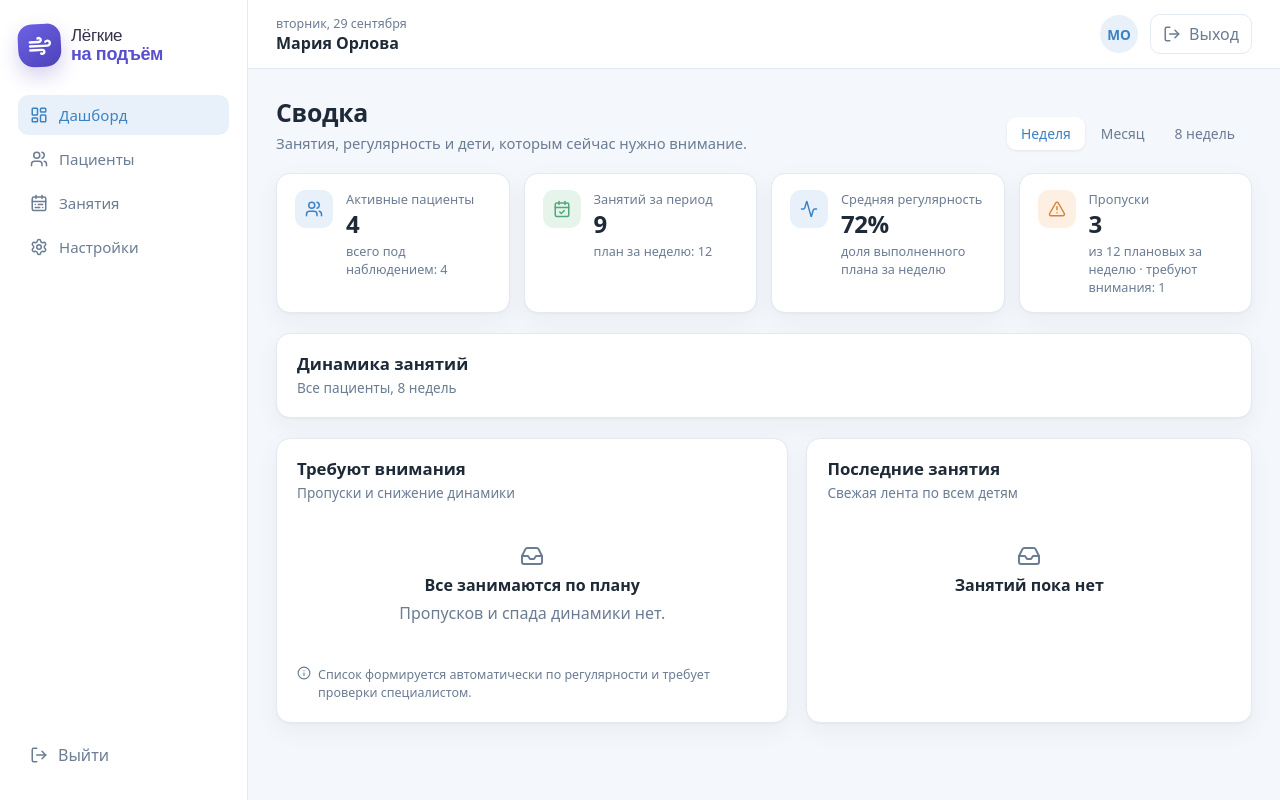
Scenario: Навигация по разделам кабинета › переход Дашборд → Пациенты → Занятия → Настройки грузит нужные данные
Check: the heading "Сводка" is shown, box [276,95,368,129]
Click the link "Пациенты": [82, 159] box [30,149,134,169]
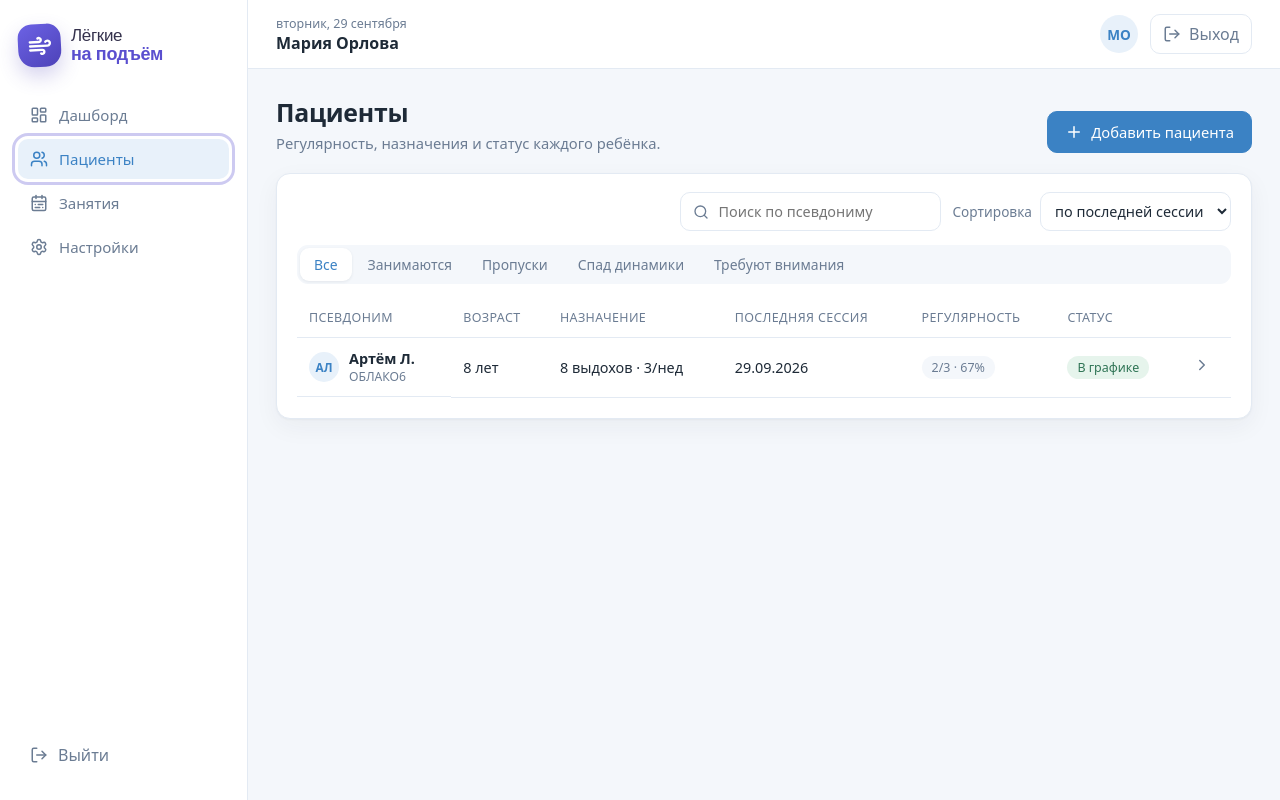
Check: the heading "Пациенты" is shown, box [276,95,408,129]
Click the link "Занятия": [75, 203] box [30,193,120,213]
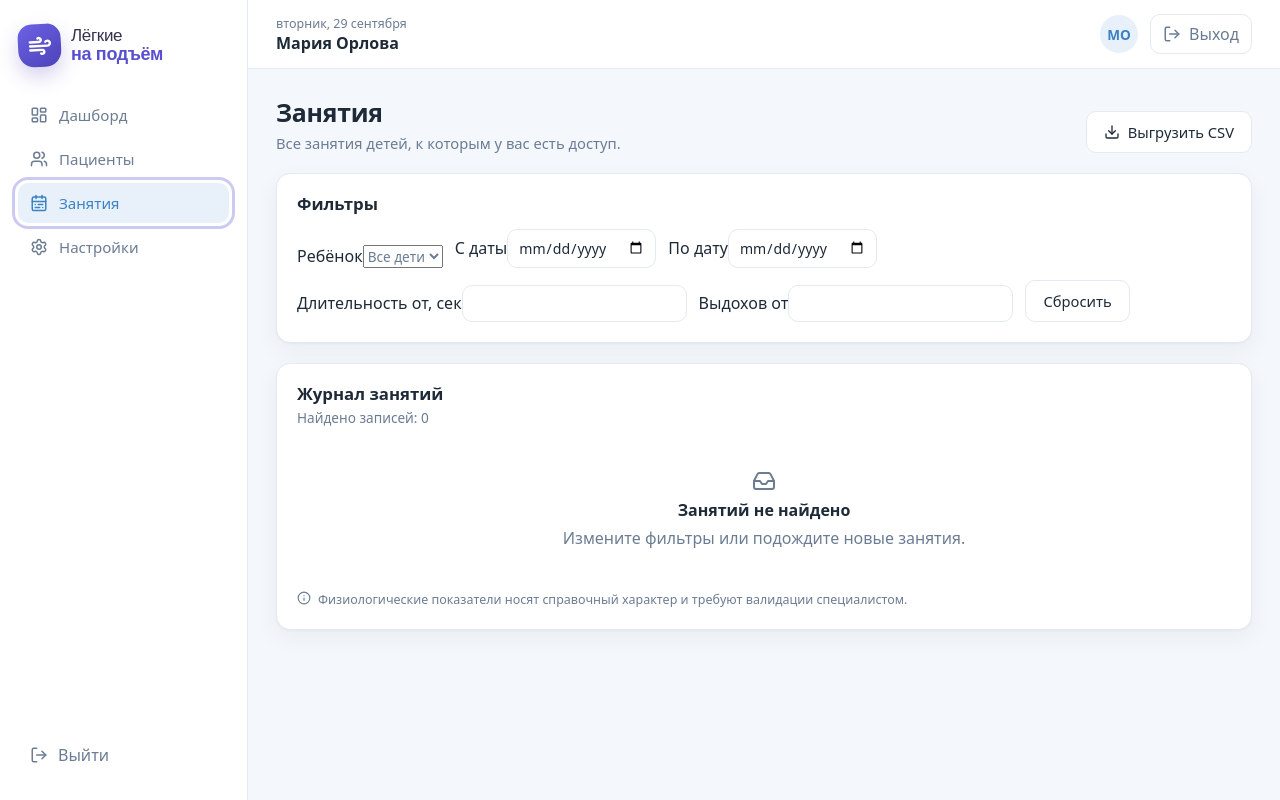
Check: the heading "Занятия" is shown, box [276,95,383,129]
Click the link "Настройки": [84, 247] box [30,237,139,257]
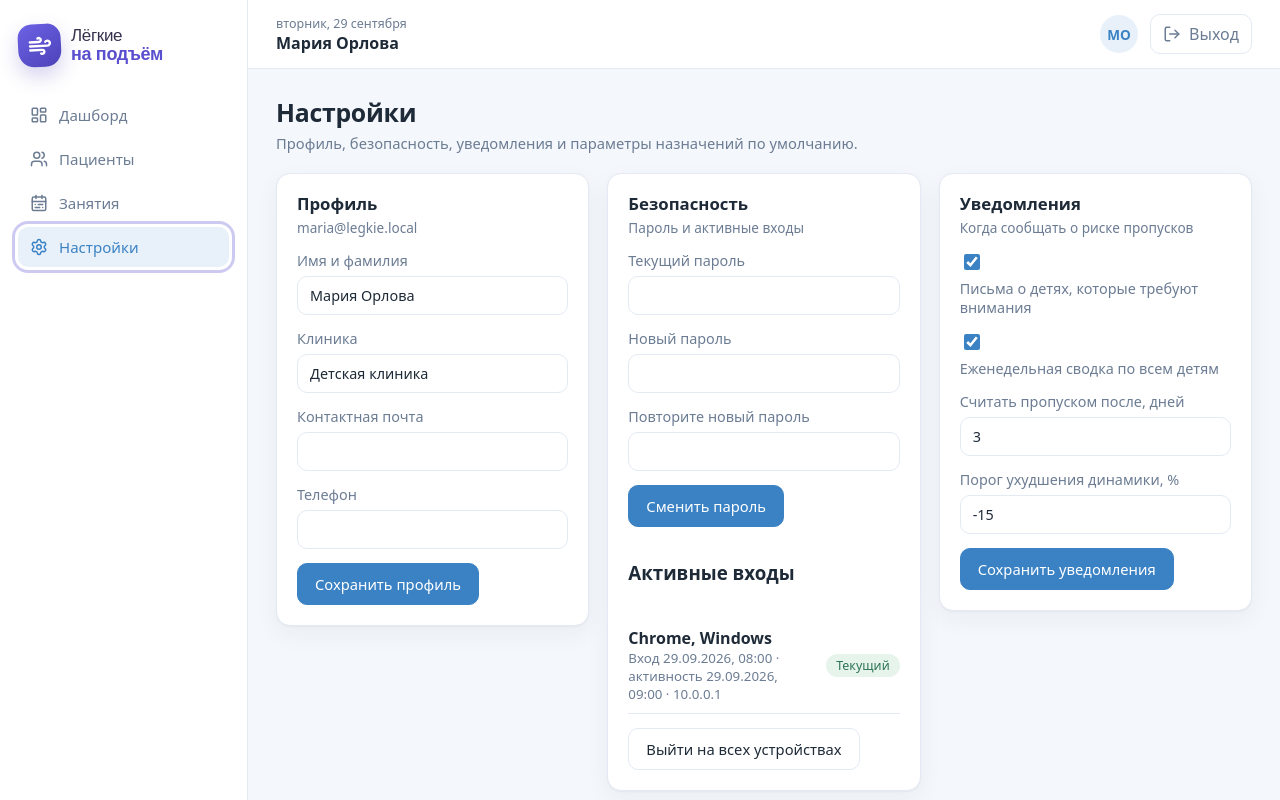
Check: the heading "Настройки" is shown, box [276,95,416,129]
Check: the field showing "Мария Орлова" is shown, box [297,276,568,315]
